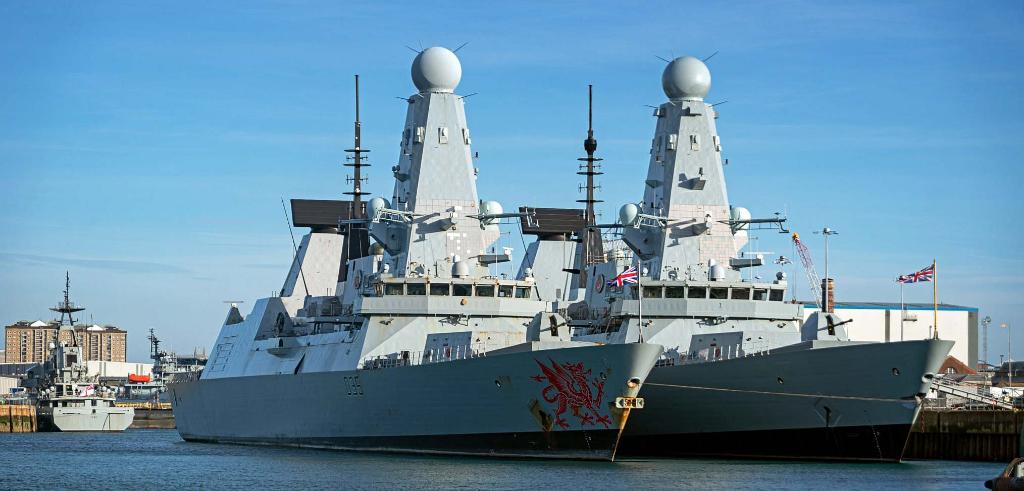Warship: (166, 28, 666, 456), (518, 49, 974, 462), (27, 261, 143, 435)
